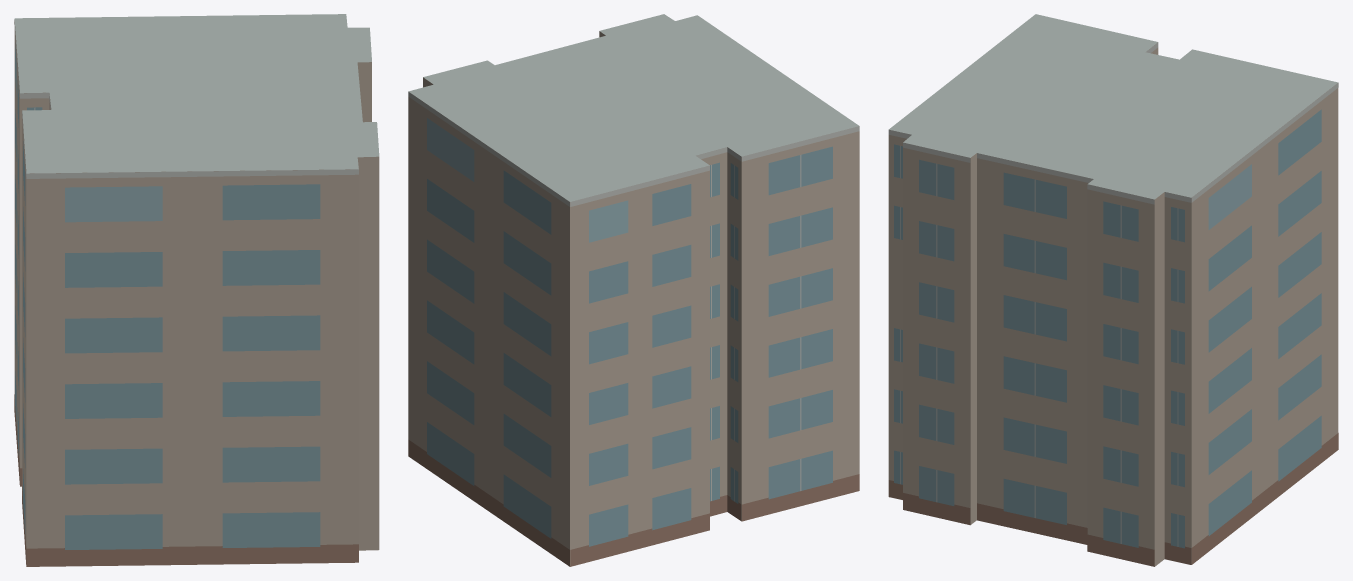
Rendered from survey-upis-32665430.glb.
The picture shows the model from 3 angles, left to right: view 1: azimuth 30°, elevation 25°; view 2: azimuth 150°, elevation 25°; view 3: azimuth 270°, elevation 25°; orthographic projection. The views are drawn at different scales.
Visible parts, largest first — view 1: survey-upis-32665430.tmp; view 2: survey-upis-32665430.tmp; view 3: survey-upis-32665430.tmp.
Boxes of the visible parts, x1,y1,x2,y2 form: survey-upis-32665430.tmp: (14,14,379,566); survey-upis-32665430.tmp: (408,14,859,566); survey-upis-32665430.tmp: (888,14,1338,566).
Bounding box in the file's own units: 18.97 × 17.5 × 19.43.
